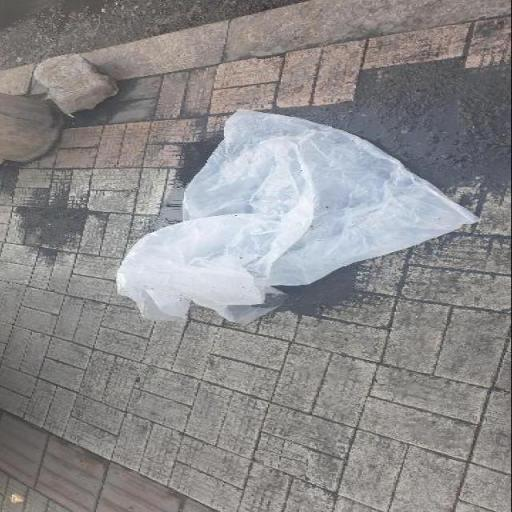polythene: (118, 110, 477, 322)
